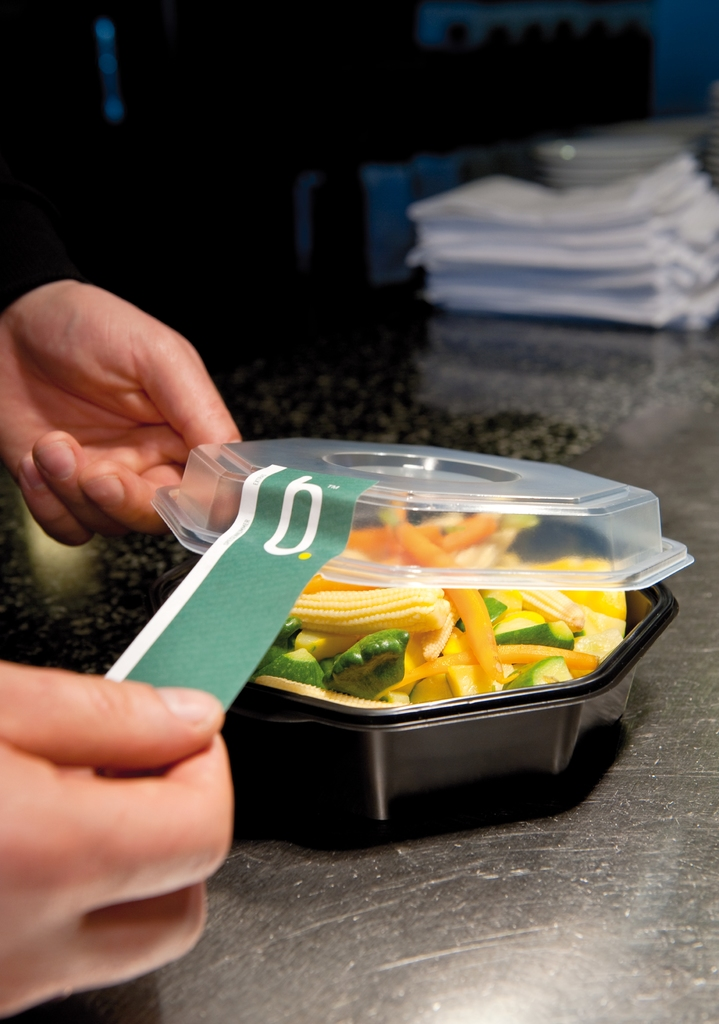Human_hand: (0, 660, 237, 1018), (0, 276, 251, 545)
